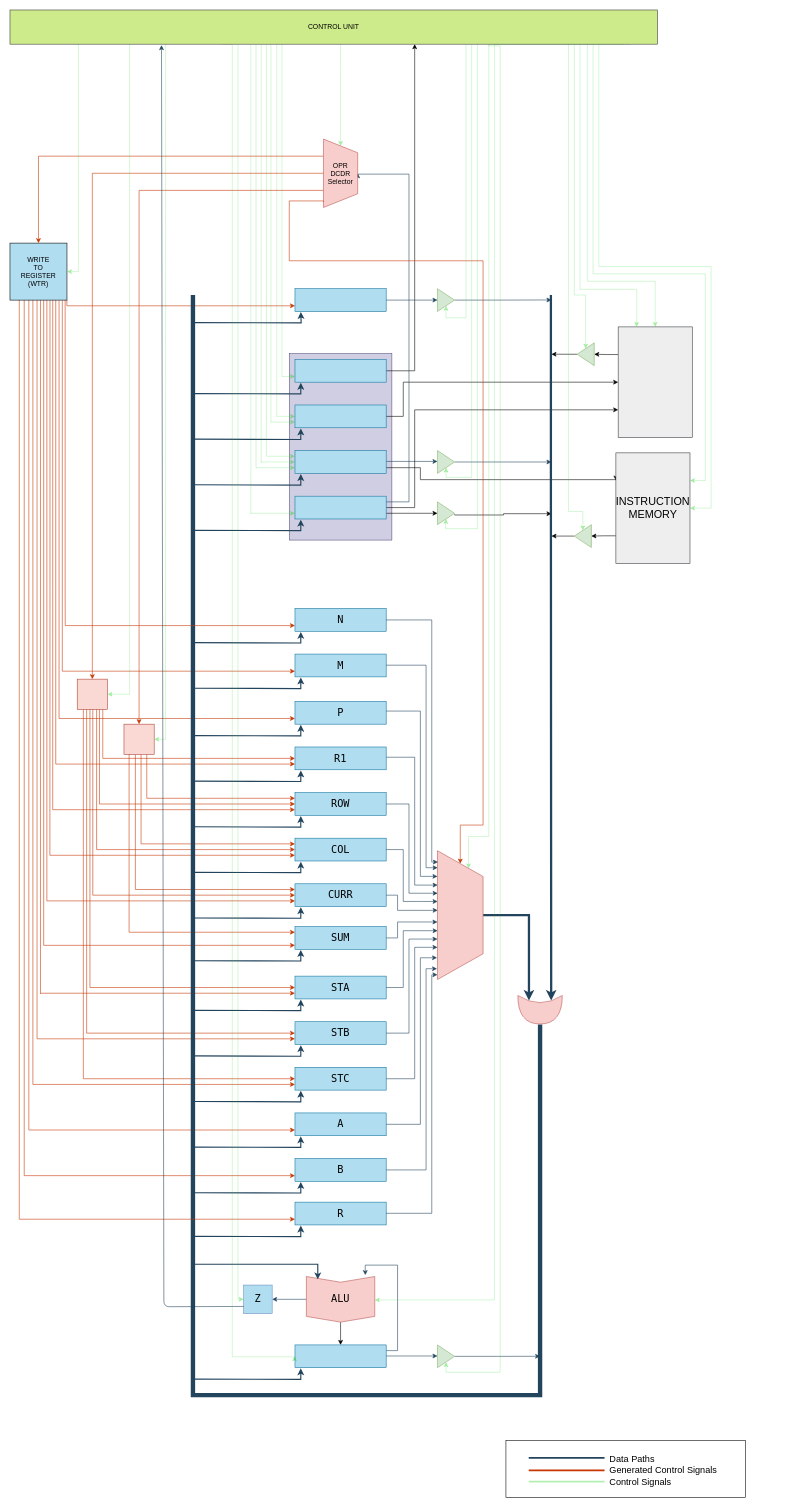
This 803x1508 diagram has some shape labels left out. Each missing label, with the box of its shape:
AC: (294, 1344, 386, 1368)
AR: (294, 404, 386, 428)
CoreID: (294, 288, 386, 312)
DATA MEMORY CONTROL: (618, 326, 692, 437)
DR: (294, 496, 386, 519)
INC DCDR (INC): (77, 679, 107, 709)
IR: (294, 359, 386, 382)
PC: (294, 450, 386, 473)
RESET DCDR (RST): (123, 724, 154, 754)
WRITE TO A BUS (WTA): (437, 850, 483, 980)
